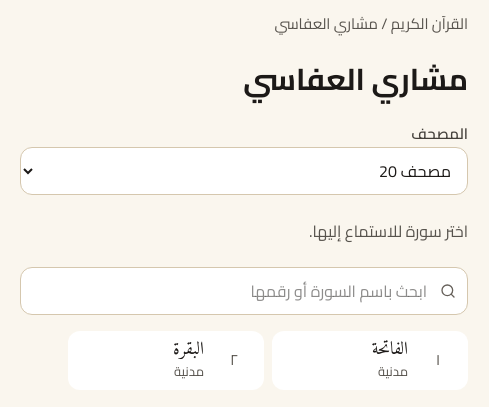
Test: QuranReciterPage › lists only the surahs of the chosen moshaf
Expected: the link "١ الفاتحة مدنية" is shown, [272,330,468,390]
Expected: the link "آل عمران" is not shown
Select "مصحف 21" in the dropdown at (244, 170), box [20,146,468,194]
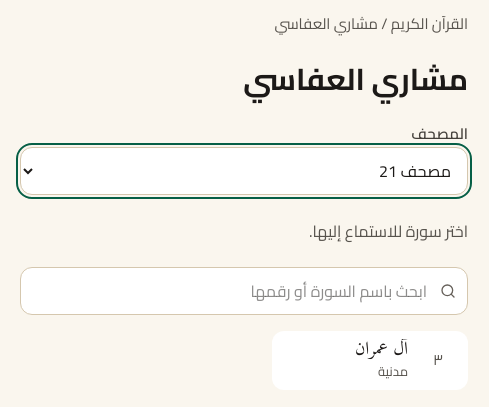
Result: the link "٣ آل عمران مدنية" is shown at [272,330,468,390]
Result: the link "الفاتحة" is gone
